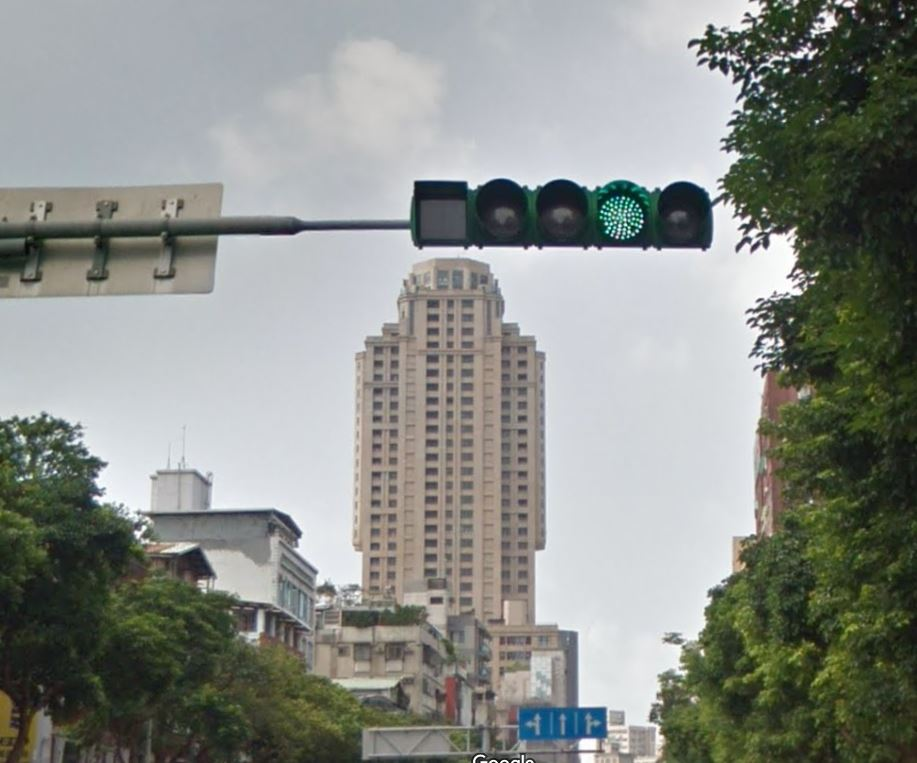Traffic_light_green: (421, 175, 713, 256)
